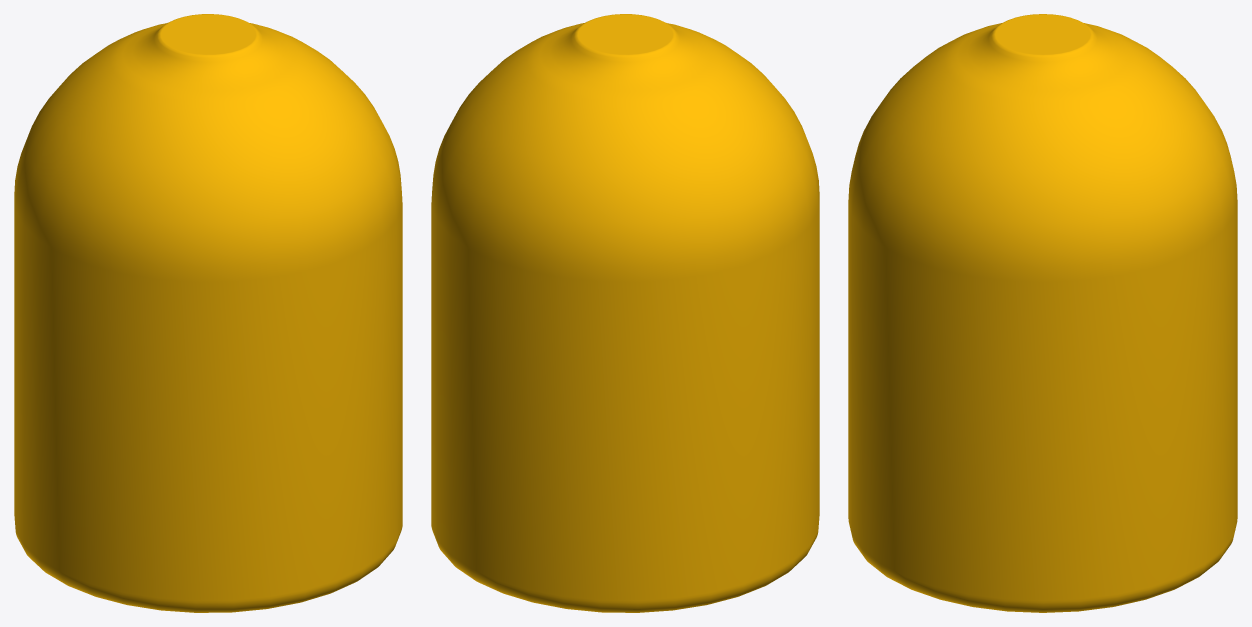
Rendered from liquid.glb.
The picture shows the model from 3 angles, left to right: view 1: azimuth 30°, elevation 25°; view 2: azimuth 150°, elevation 25°; view 3: azimuth 270°, elevation 25°; orthographic projection.
Parts seen in each view (by area): view 1: Liquide_Interieur; view 2: Liquide_Interieur; view 3: Liquide_Interieur.
Part boxes in pixels (x1=…): Liquide_Interieur: x1=14, y1=14, x2=402, y2=612; Liquide_Interieur: x1=431, y1=14, x2=819, y2=612; Liquide_Interieur: x1=848, y1=14, x2=1237, y2=612.
Bounding box in the file's own units: 0.0944 × 0.1344 × 0.0944.
